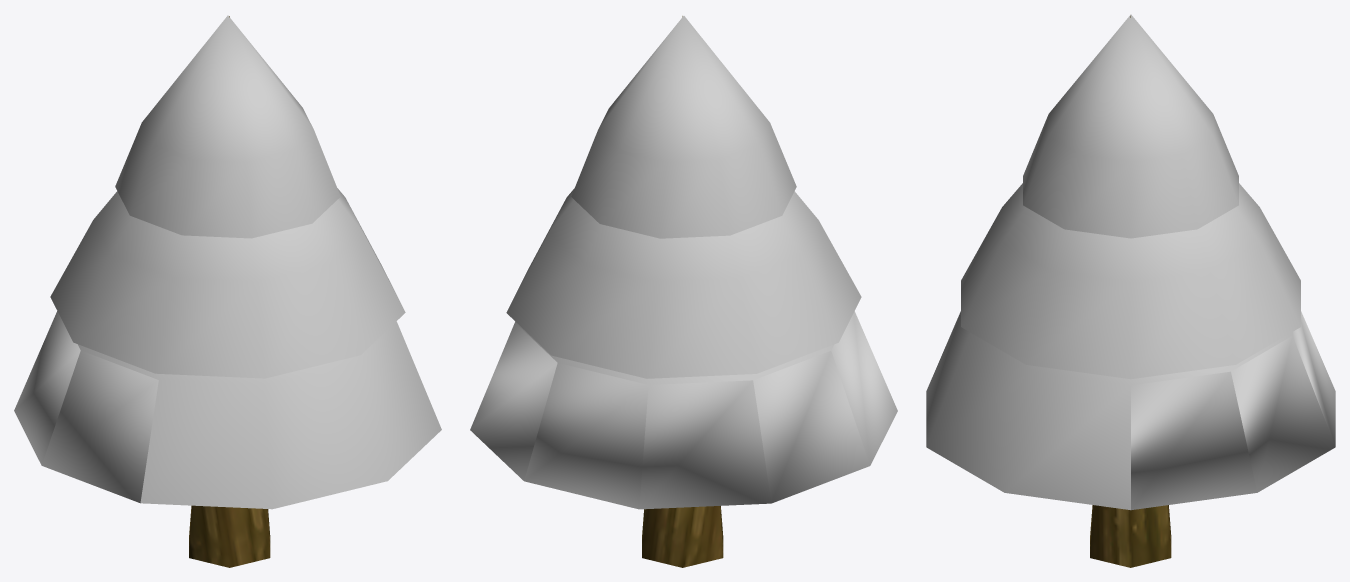
Rendered from bigmap_pine01.FBX.
The picture shows the model from 3 angles, left to right: view 1: azimuth 30°, elevation 25°; view 2: azimuth 150°, elevation 25°; view 3: azimuth 270°, elevation 25°; orthographic projection.
Visible parts, largest first — view 1: bigmap_pine01; view 2: bigmap_pine01; view 3: bigmap_pine01.
Part boxes in pixels (x1=…): bigmap_pine01: x1=14, y1=15, x2=441, y2=567; bigmap_pine01: x1=470, y1=16, x2=897, y2=567; bigmap_pine01: x1=926, y1=14, x2=1335, y2=567.
Bounding box in the file's own units: 1.72 × 1.64 × 2.36.
